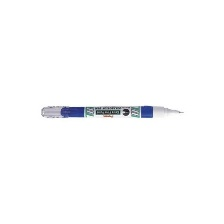correction_fluid: (38, 102, 188, 120)
